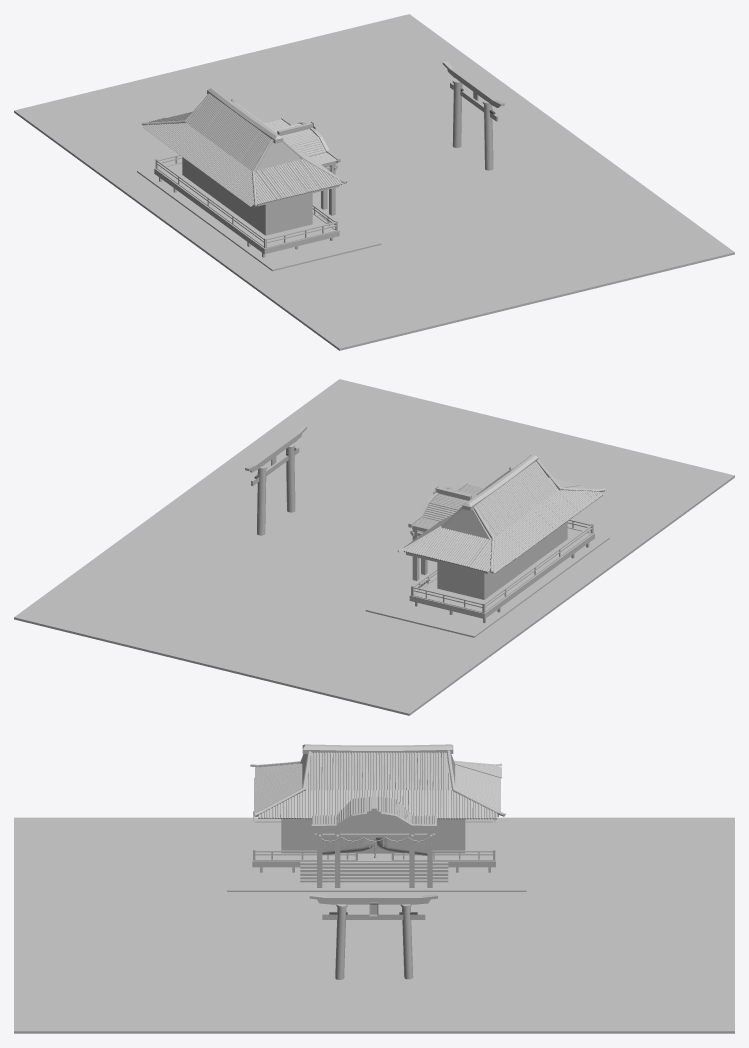
The model's file is Japanese shrine.fbx.
The picture shows the model from 3 angles, top to bottom: view 1: azimuth 30°, elevation 25°; view 2: azimuth 150°, elevation 25°; view 3: azimuth 270°, elevation 25°; orthographic projection. The views are drawn at different scales.
Parts seen in each view (by area): view 1: Cube.247, Cube.246, Cube.197, Cube.189, Cube.240, Cube.195, Cylinder.022, Cylinder.021; view 2: Cube.247, Cube.246, Cube.197, Cube.189, Cube.195, Cube.240, Cylinder.022, Cylinder.021; view 3: Cube.247, Cube.246, Cube.189, Cube.197, Cube.190, Cube.240, Cube.185, Cube.178, Cylinder.021, Cylinder.022, Plane.013, Plane.015 (+3 smaller).
Boxes of the visible parts, x1,y1,x2,y2 form: Cube.247: [14, 14, 734, 350]; Cube.246: [137, 160, 381, 271]; Cube.197: [182, 157, 312, 235]; Cube.189: [154, 163, 339, 254]; Cube.240: [207, 87, 283, 143]; Cube.195: [257, 142, 301, 170]; Cylinder.022: [452, 78, 462, 147]; Cylinder.021: [482, 100, 493, 170]; Cube.247: [14, 379, 734, 715]; Cube.246: [365, 534, 609, 637]; Cube.197: [437, 521, 567, 599]; Cube.189: [409, 528, 594, 618]; Cube.195: [443, 476, 548, 539]; Cube.240: [462, 454, 538, 510]; Cylinder.022: [257, 464, 267, 535]; Cylinder.021: [286, 443, 295, 512]; Cube.247: [14, 817, 734, 1033]; Cube.246: [227, 831, 526, 891]; Cube.189: [252, 820, 495, 867]; Cube.197: [281, 818, 465, 853]; Cube.190: [300, 862, 448, 882]; Cube.240: [302, 744, 453, 754]; Cube.185: [311, 812, 436, 830]; Cube.178: [309, 894, 437, 900]; Cylinder.021: [335, 904, 347, 979]; Cylinder.022: [400, 904, 413, 979]; Plane.013: [376, 837, 427, 855]; Plane.015: [322, 837, 374, 854].
Size of the model in its own units: 1954 by 486 by 2787.
